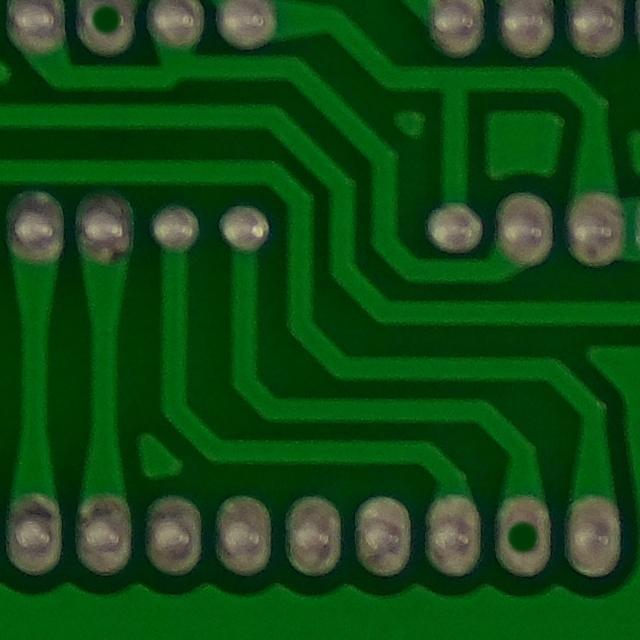missing_hole: (486, 489, 560, 587), (67, 0, 150, 63)
